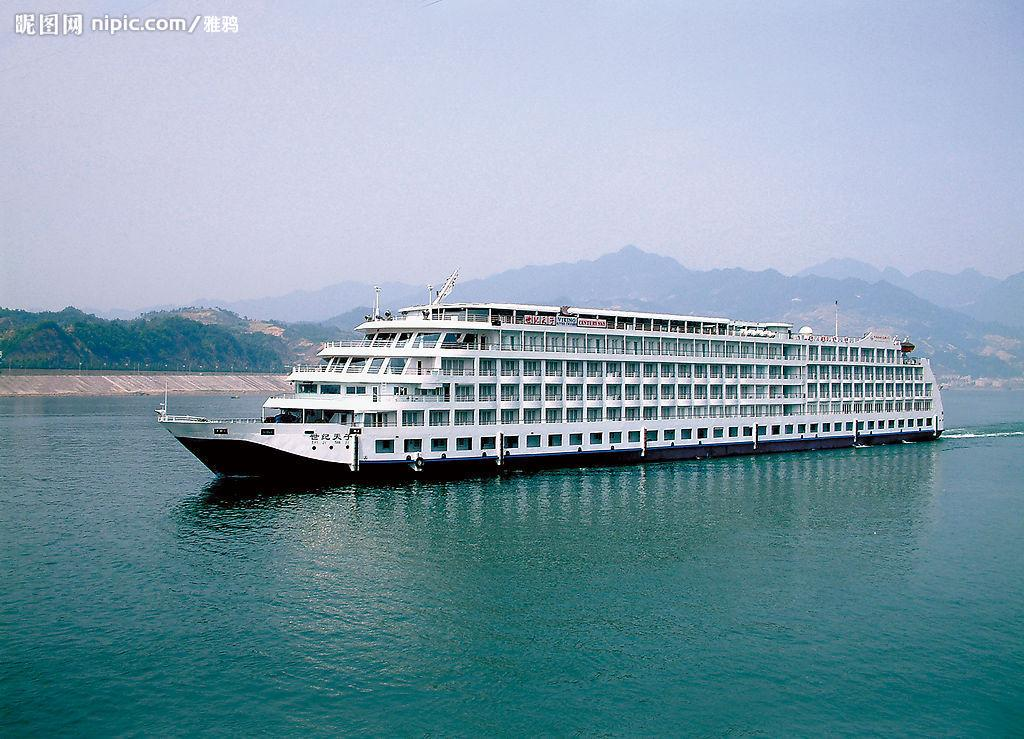youlun: (161, 283, 953, 502)
